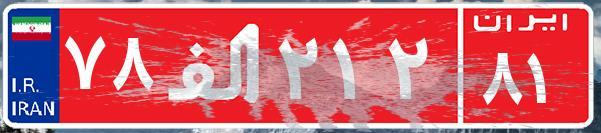1: (330, 28, 385, 110), (525, 38, 570, 115)
2: (385, 28, 445, 110), (273, 28, 330, 110)
7: (57, 26, 110, 107)
8: (475, 38, 525, 113), (110, 28, 158, 105)
الف: (158, 15, 273, 115)
